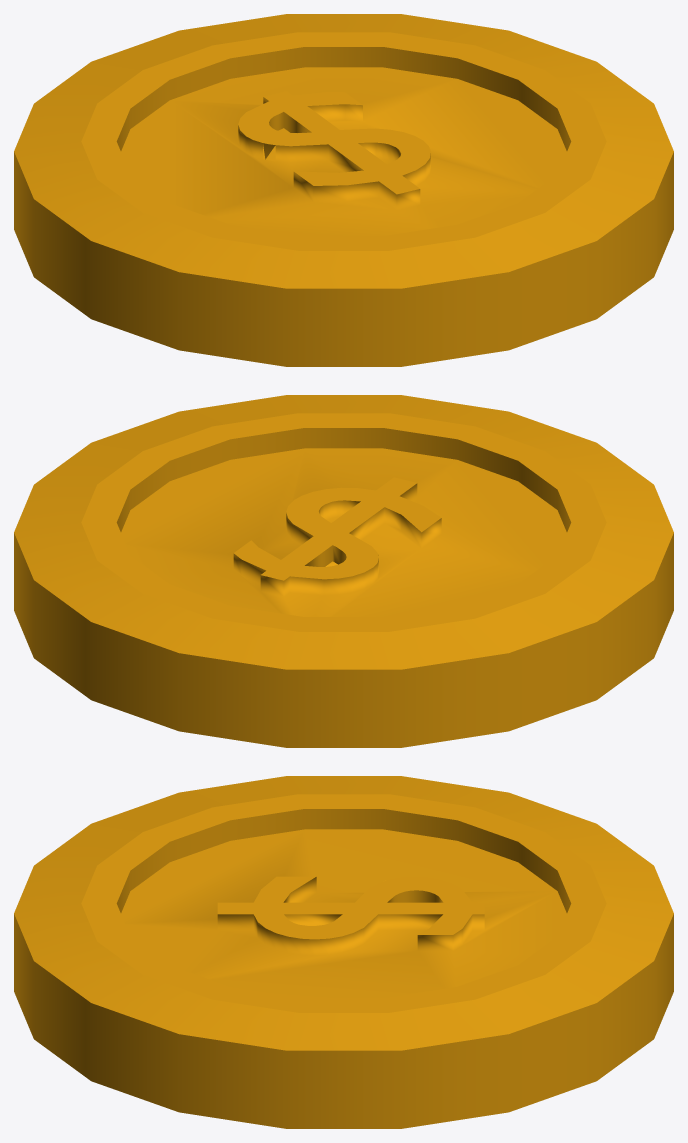
File: coinasset.glb
3 views of the same model, one above another, from view 1: azimuth 30°, elevation 25°; view 2: azimuth 150°, elevation 25°; view 3: azimuth 270°, elevation 25° (orthographic).
Visible parts, largest first — view 1: Coin_new; view 2: Coin_new; view 3: Coin_new.
Boxes of the visible parts, <box> form: Coin_new: <box>14,14,673,366</box>; Coin_new: <box>14,395,673,747</box>; Coin_new: <box>14,776,673,1128</box>.
Size of the model in its own units: 1.97 by 0.3274 by 2.
